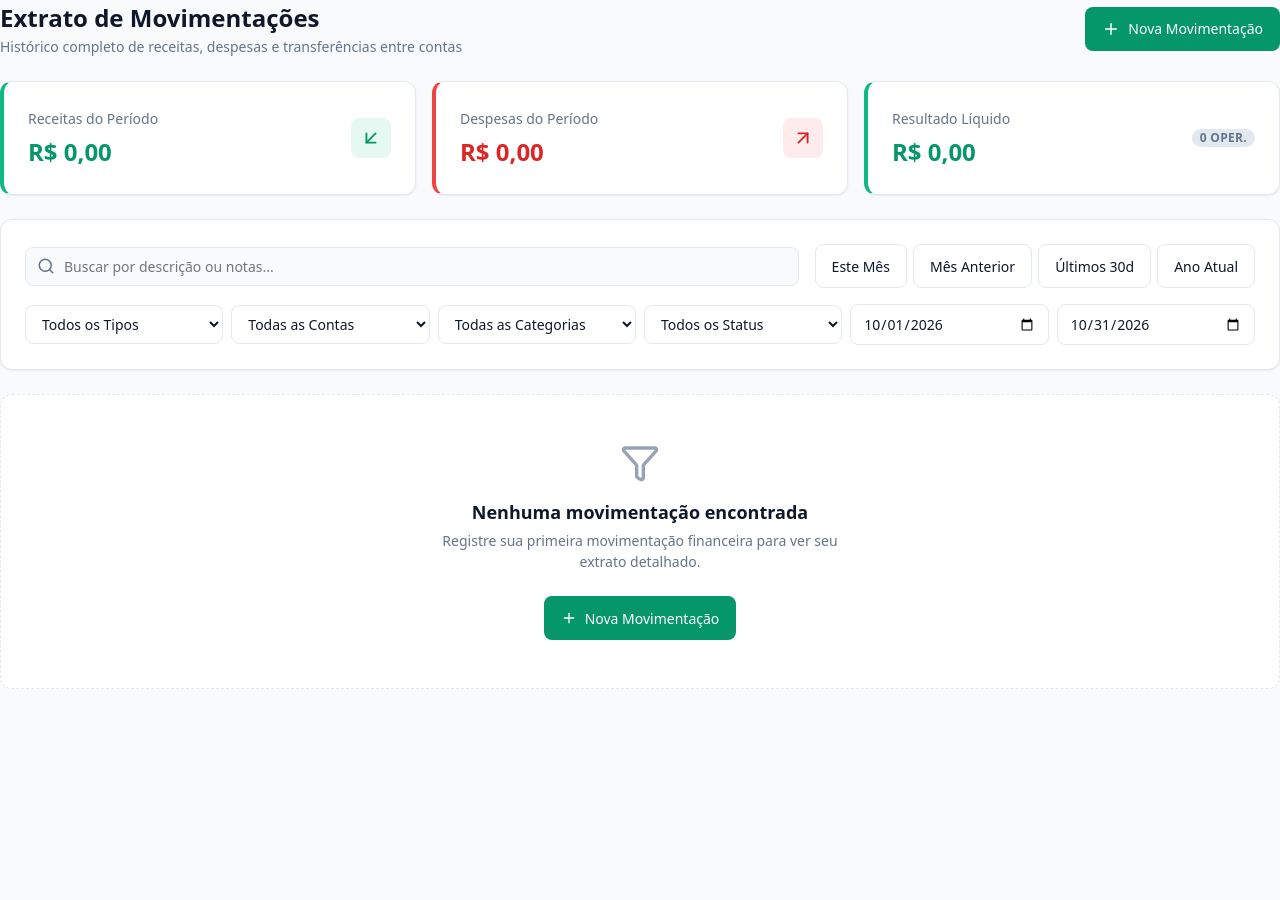
Scenario: TransactionsPage Component › opens transaction creation modal when clicking nova movimentação
What coordinates should you click on to do the following:
click the button "Nova Movimentação" in the row of "Extrato de Movimentações"
I would click on:
 (1183, 28)
Its box is [1085,6,1279,50].
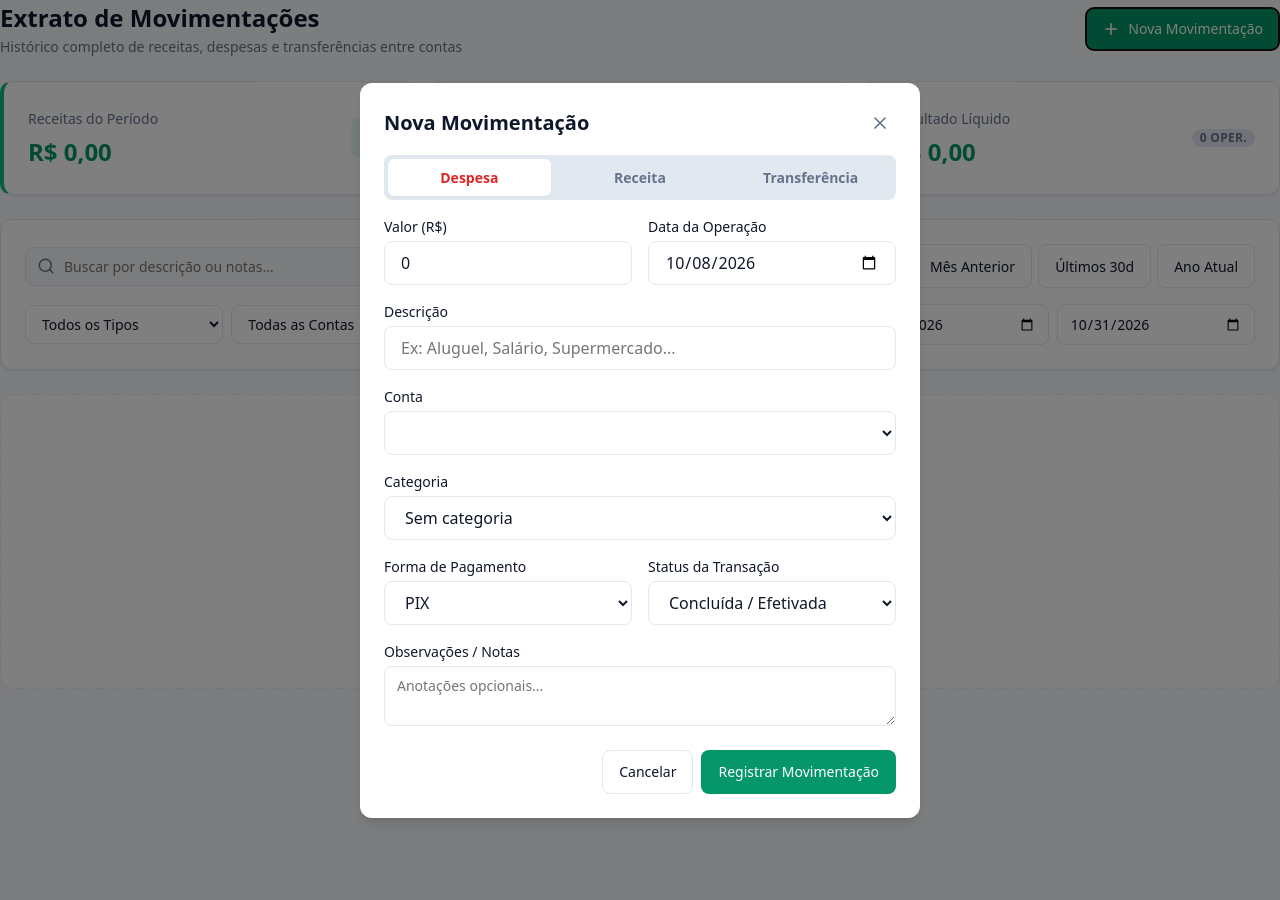
Expected: the heading "Nova Movimentação" is shown, [384,108,589,138]
Expected: the field labelled "Descrição" is shown, [384,326,896,370]
